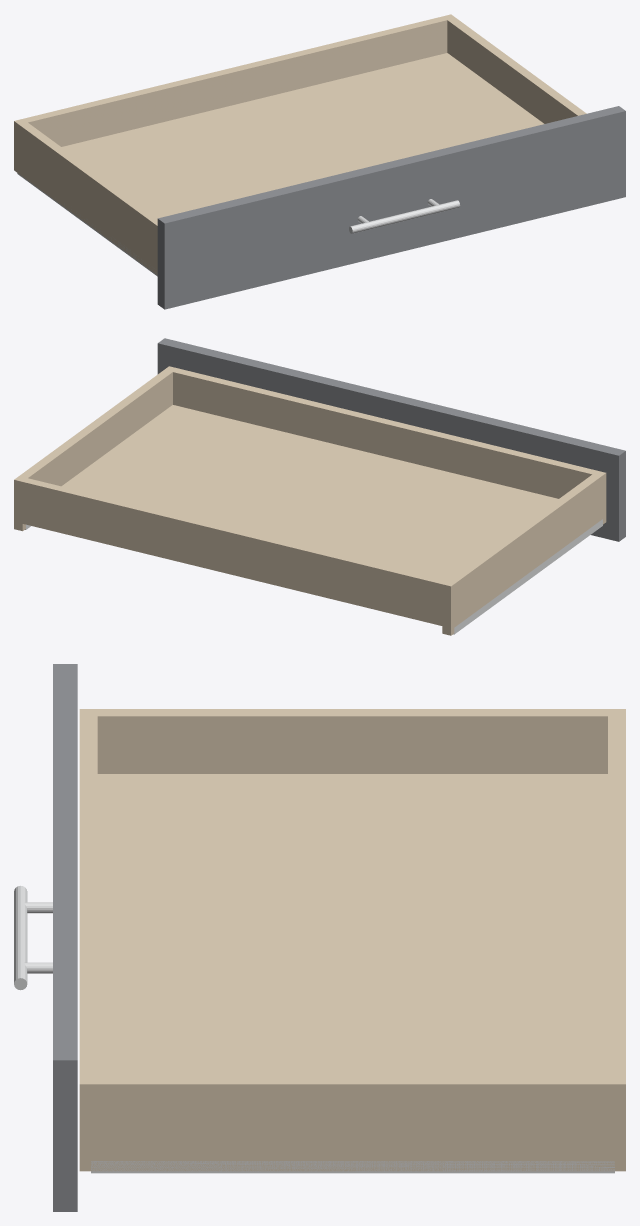
The model's file is skuff_K3_3.glb.
3 views of the same model, one above another, from view 1: azimuth 30°, elevation 25°; view 2: azimuth 150°, elevation 25°; view 3: azimuth 270°, elevation 25° (orthographic). The views are drawn at different scales.
Size of the model in its own units: 841 by 150 by 549.
